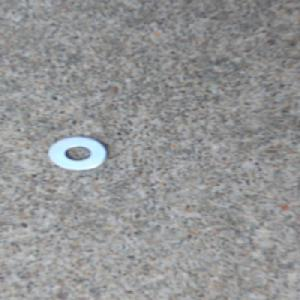Washer: (44, 134, 111, 172)
